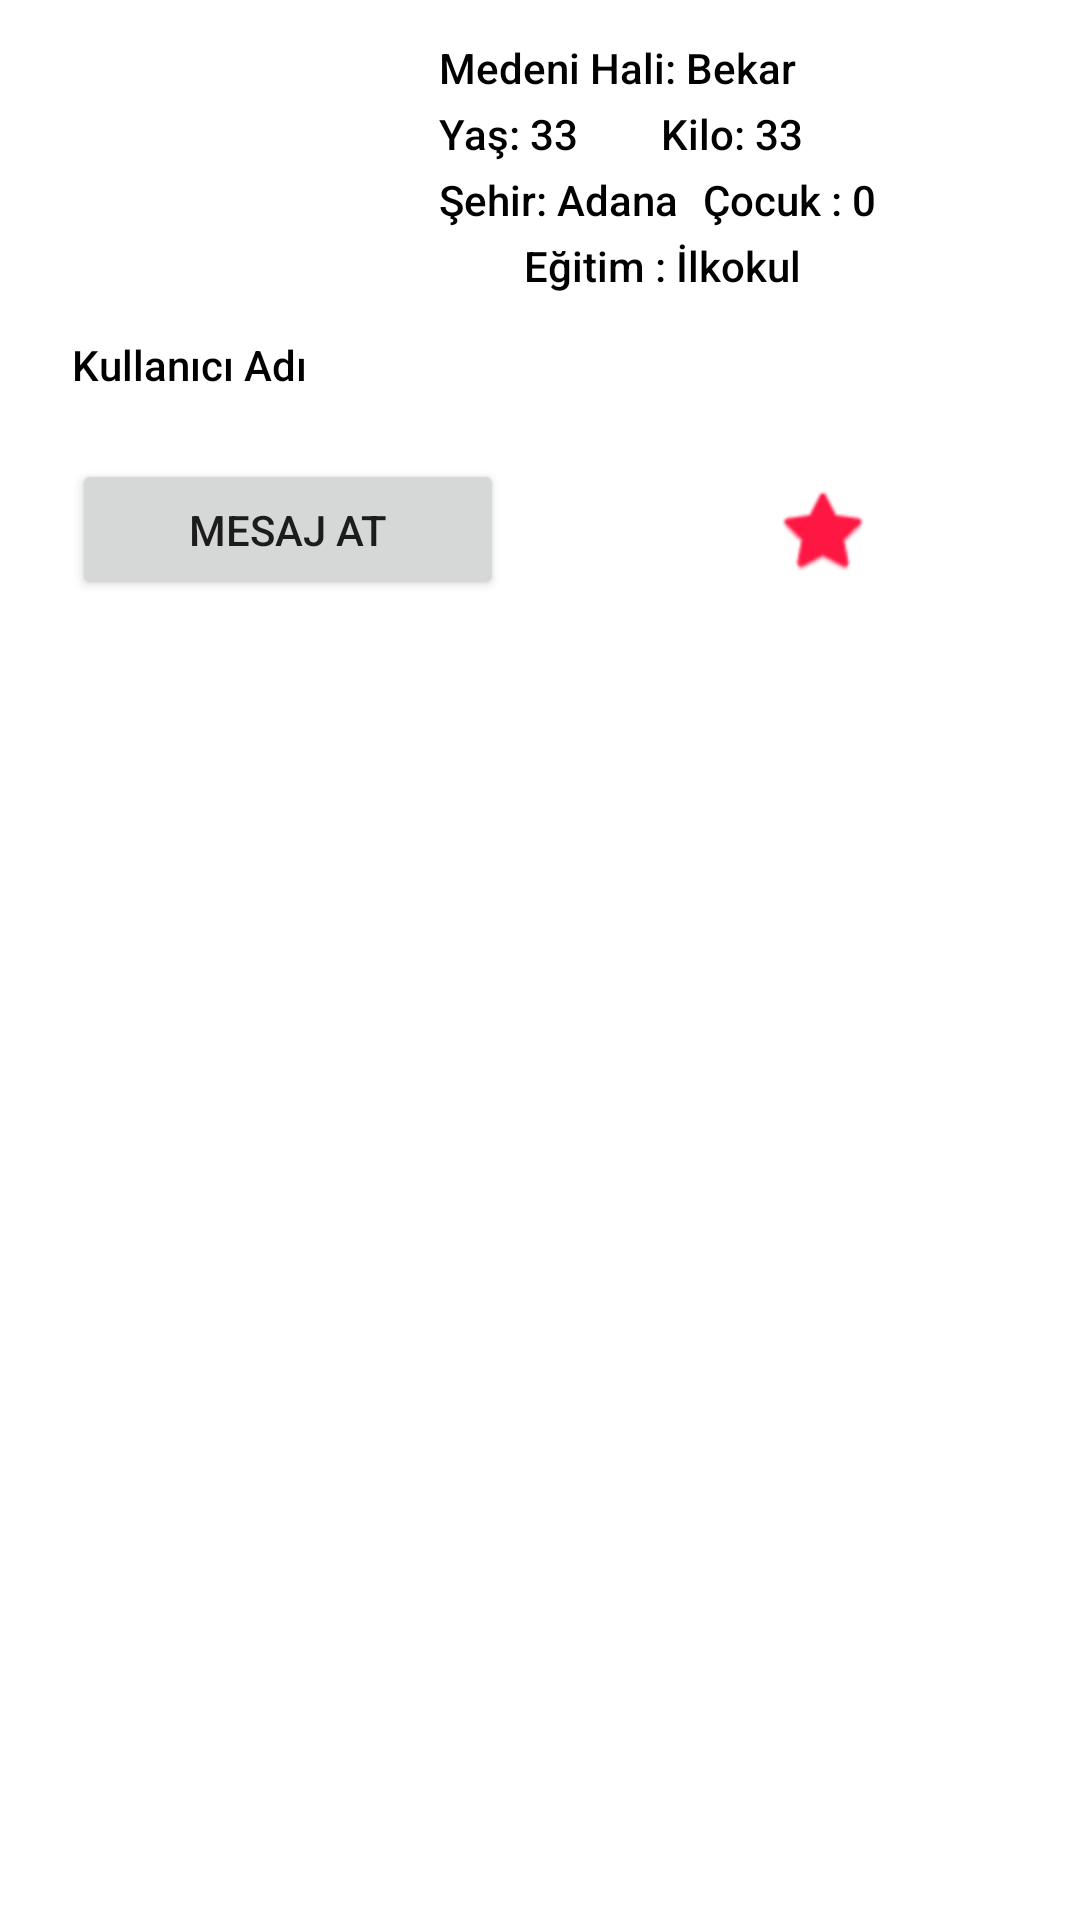

Icon bounding boxes for this 1080x1920 phone screenshot, format (x1, y1, x2, y2):
star: (783, 492, 863, 570)
